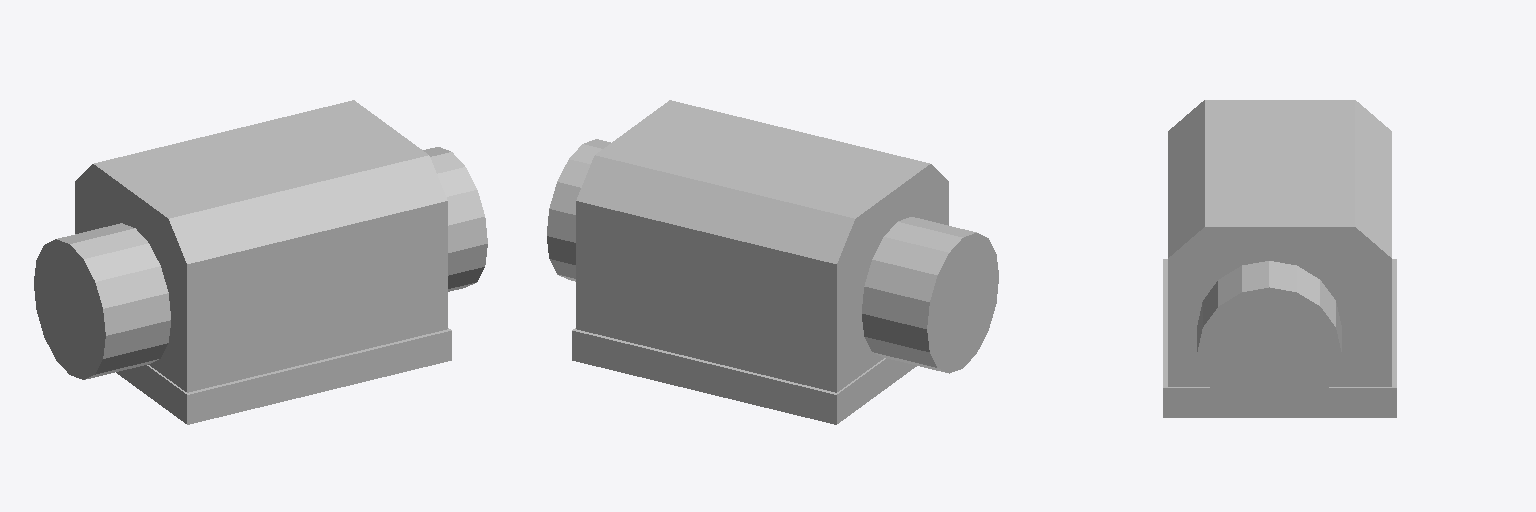
The model's file is Conector1OutMesh.obj.
3 views of the same model, side by side, from view 1: azimuth 30°, elevation 25°; view 2: azimuth 150°, elevation 25°; view 3: azimuth 270°, elevation 25° (orthographic).
Visible parts, largest first — view 1: Cube.023; view 2: Cube.023; view 3: Cube.023.
Boxes of the visible parts, x1,y1,x2,y2 form: Cube.023: [34, 100, 487, 424]; Cube.023: [547, 100, 998, 424]; Cube.023: [1163, 100, 1396, 417].
Size of the model in its own units: 6.83 by 3.26 by 3.63.